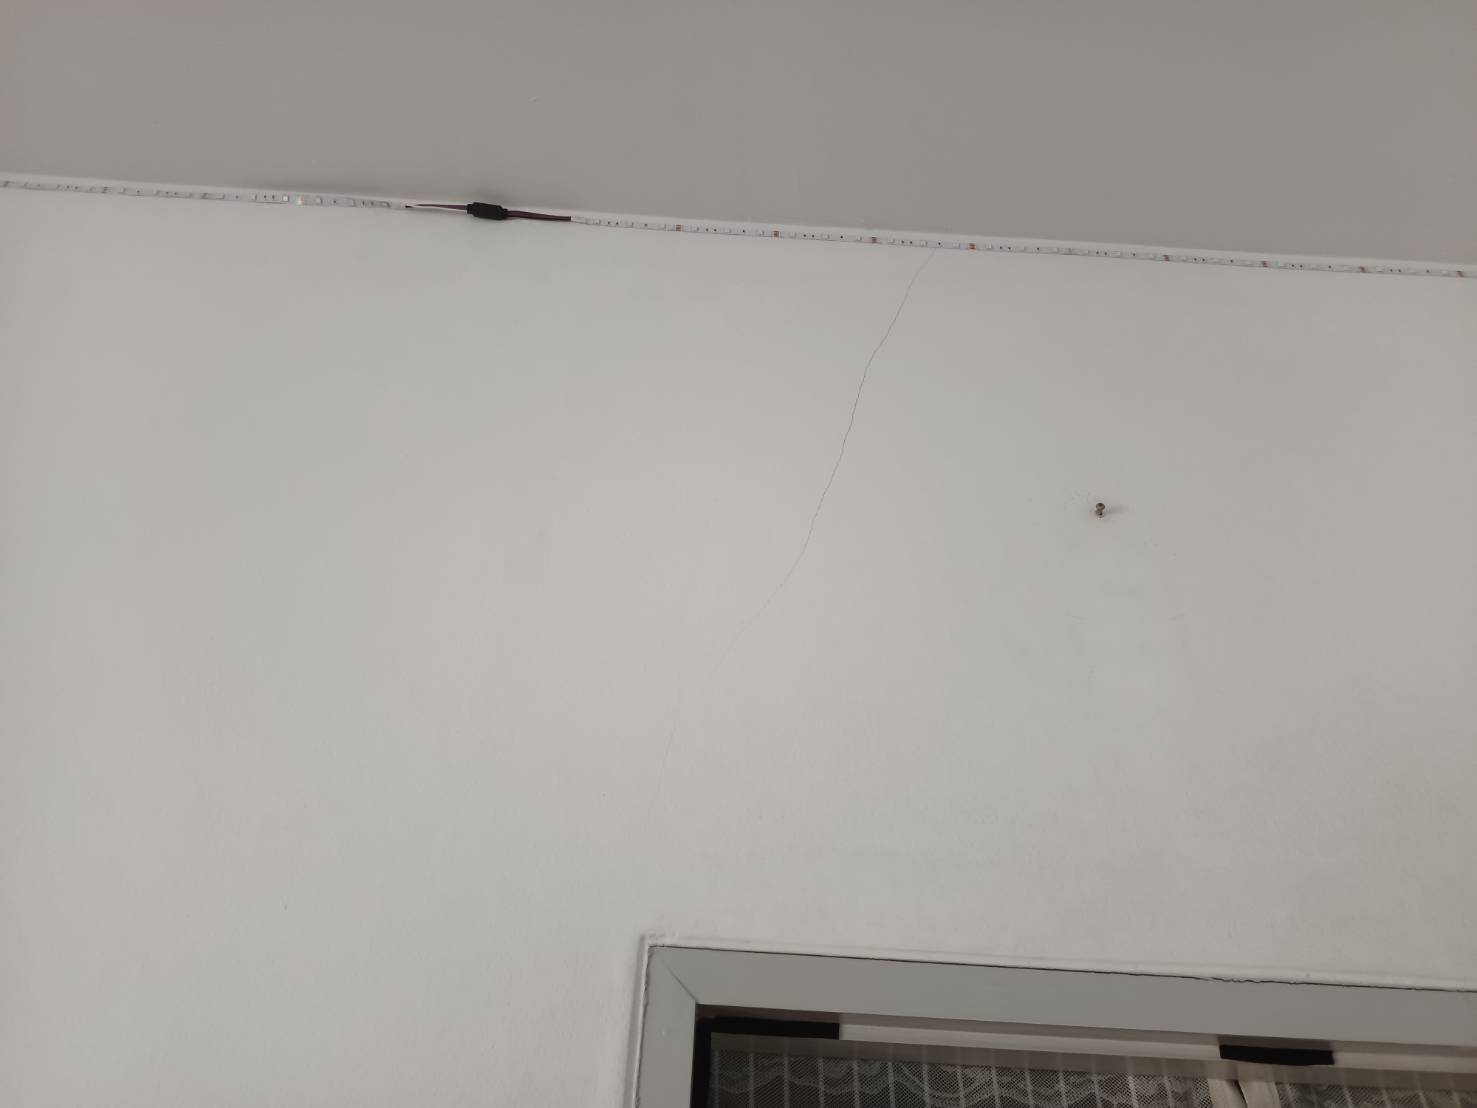Low: (622, 242, 971, 766)
